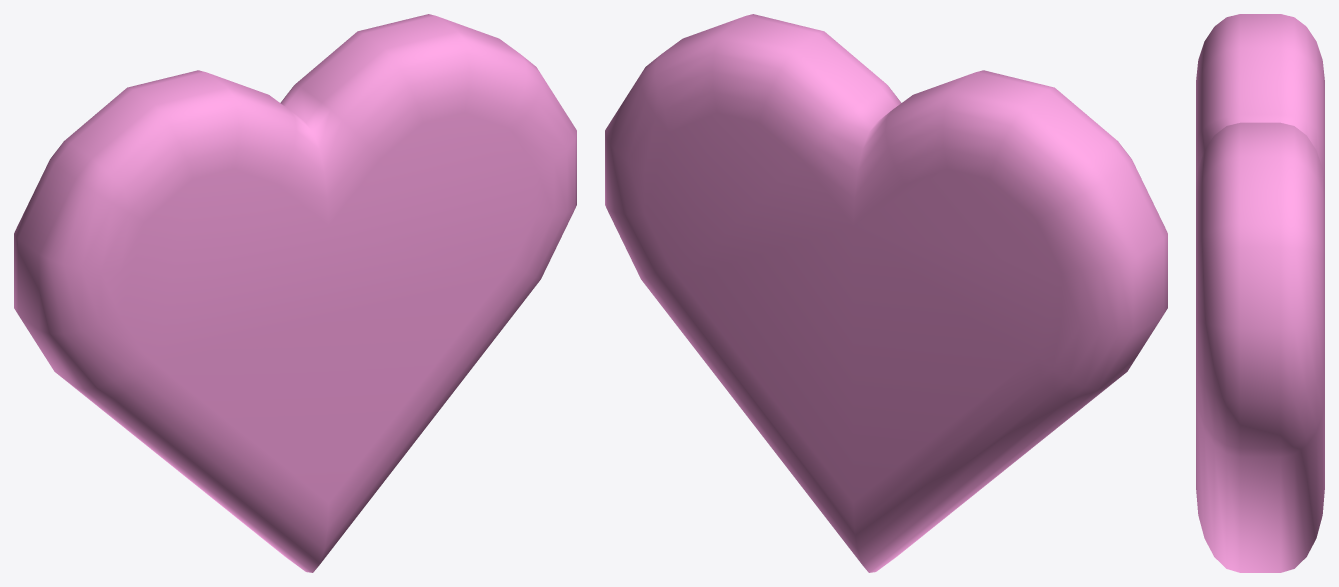
File: CORA.glb
3 views of the same model, side by side, from view 1: azimuth 30°, elevation 25°; view 2: azimuth 150°, elevation 25°; view 3: azimuth 270°, elevation 25° (orthographic). The views are drawn at different scales.
Parts seen in each view (by area): view 1: CORAA; view 2: CORAA; view 3: CORAA.
Boxes of the visible parts, box(x1,y1,x2,y2) form: CORAA: box(14, 14, 576, 572); CORAA: box(605, 14, 1167, 572); CORAA: box(1196, 14, 1324, 572).
Size of the model in its own units: 3.52 by 3.17 by 0.7596.
